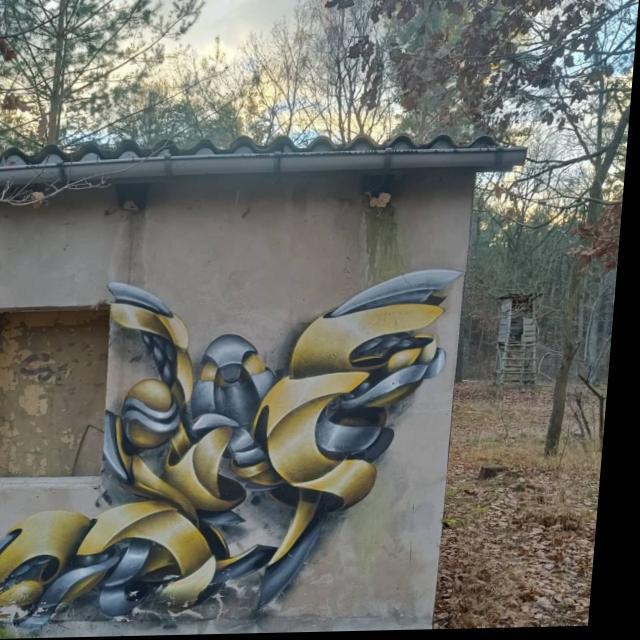-: (0, 251, 473, 631)
